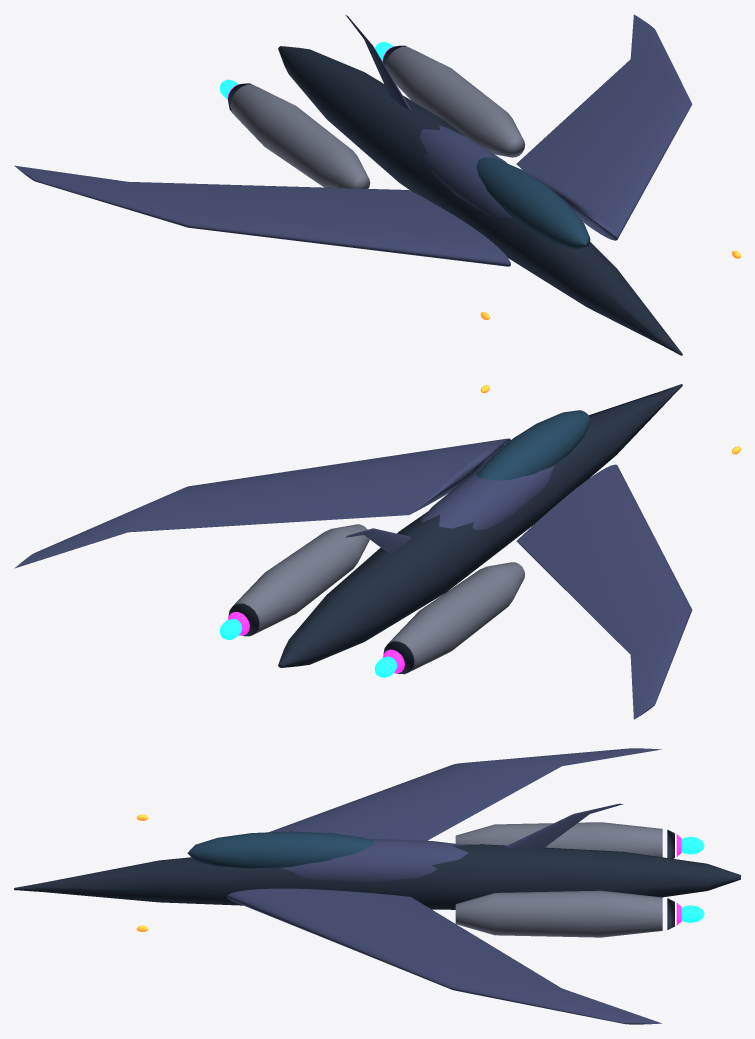
File: cyberwing.glb
3 renders of one model, top to bottom at view 1: azimuth 30°, elevation 25°; view 2: azimuth 150°, elevation 25°; view 3: azimuth 270°, elevation 25°, orthographic. The views are drawn at different scales.
Visible parts, largest first — view 1: cyberwing; view 2: cyberwing; view 3: cyberwing.
Boxes of the visible parts, x1,y1,x2,y2 form: cyberwing: (14, 14, 740, 355); cyberwing: (14, 384, 740, 719); cyberwing: (14, 748, 740, 1024).
Size of the model in its own units: 11.6 by 2.08 by 13.
